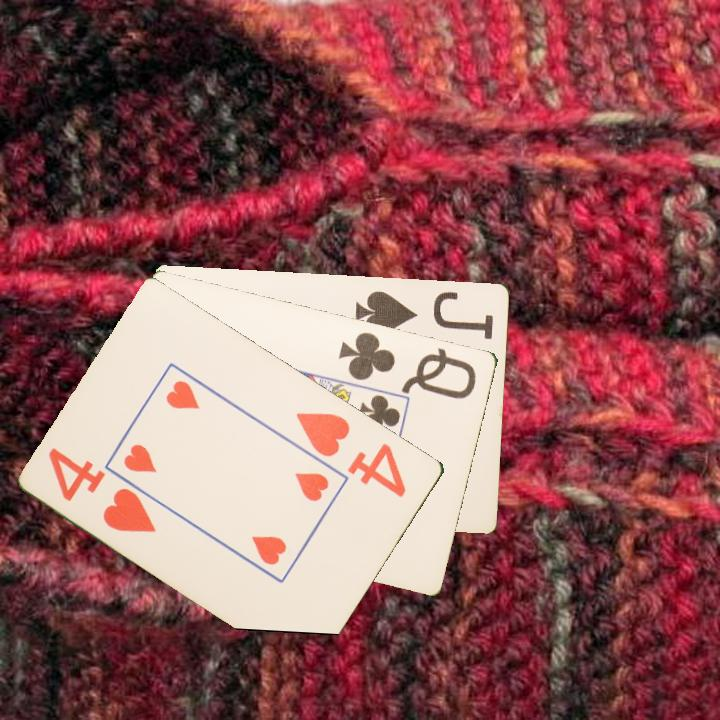4h: (293, 408, 410, 501), (45, 443, 160, 536)
Js: (352, 286, 497, 342)
Qc: (335, 328, 480, 402)
